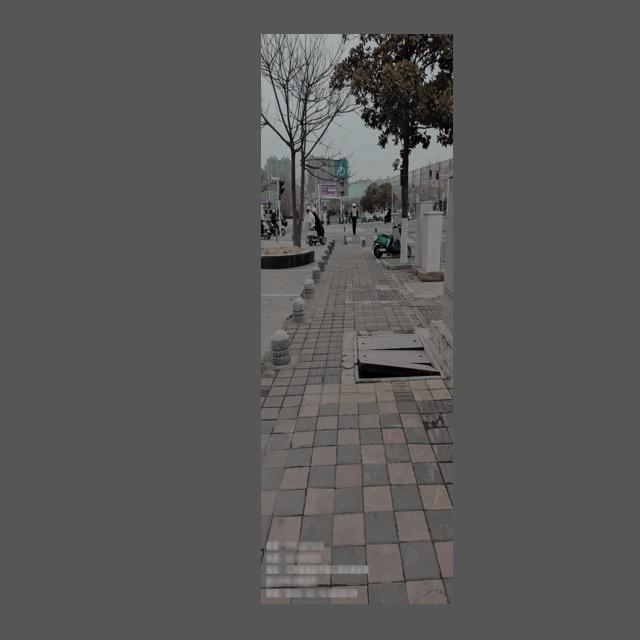good: (347, 286, 407, 304)
uncovered: (353, 329, 448, 382)
